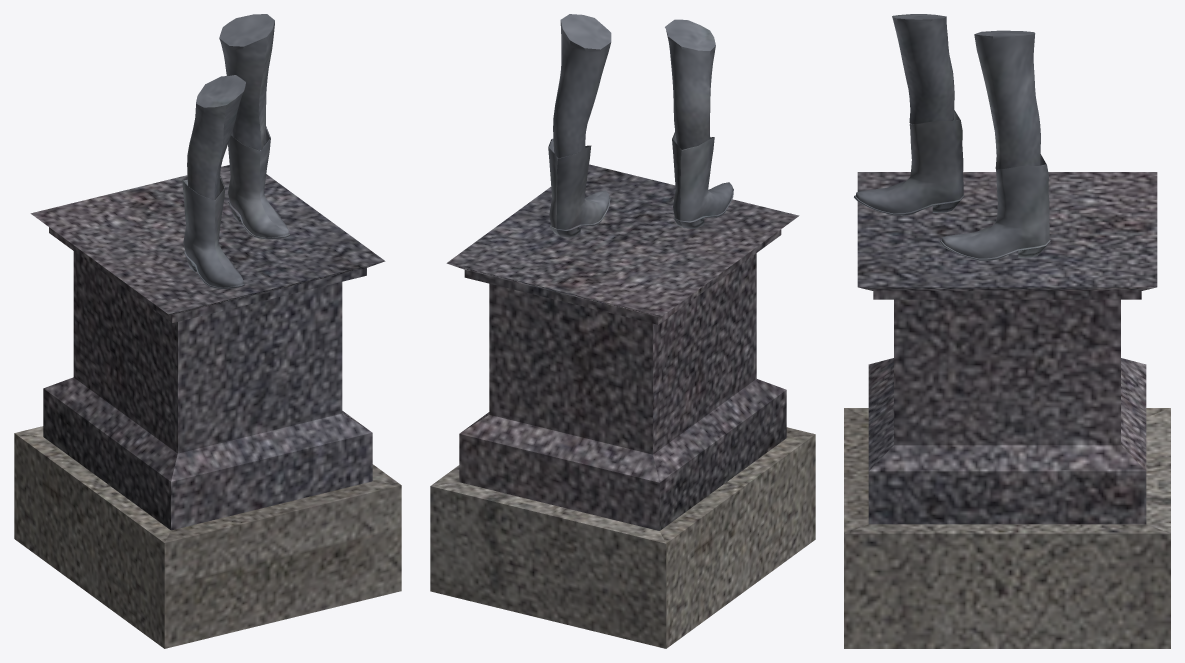
File: Status Main.fbx
3 renders of one model, left to right at view 1: azimuth 30°, elevation 25°; view 2: azimuth 150°, elevation 25°; view 3: azimuth 270°, elevation 25°, orthographic. The views are drawn at different scales.
Parts seen in each view (by area): view 1: Status_Main; view 2: Status_Main; view 3: Status_Main.
Part boxes in pixels (x1=…): Status_Main: x1=14, y1=14, x2=401, y2=648; Status_Main: x1=430, y1=14, x2=815, y2=648; Status_Main: x1=844, y1=14, x2=1170, y2=648.
Size of the model in its own units: 206 by 445 by 226.
